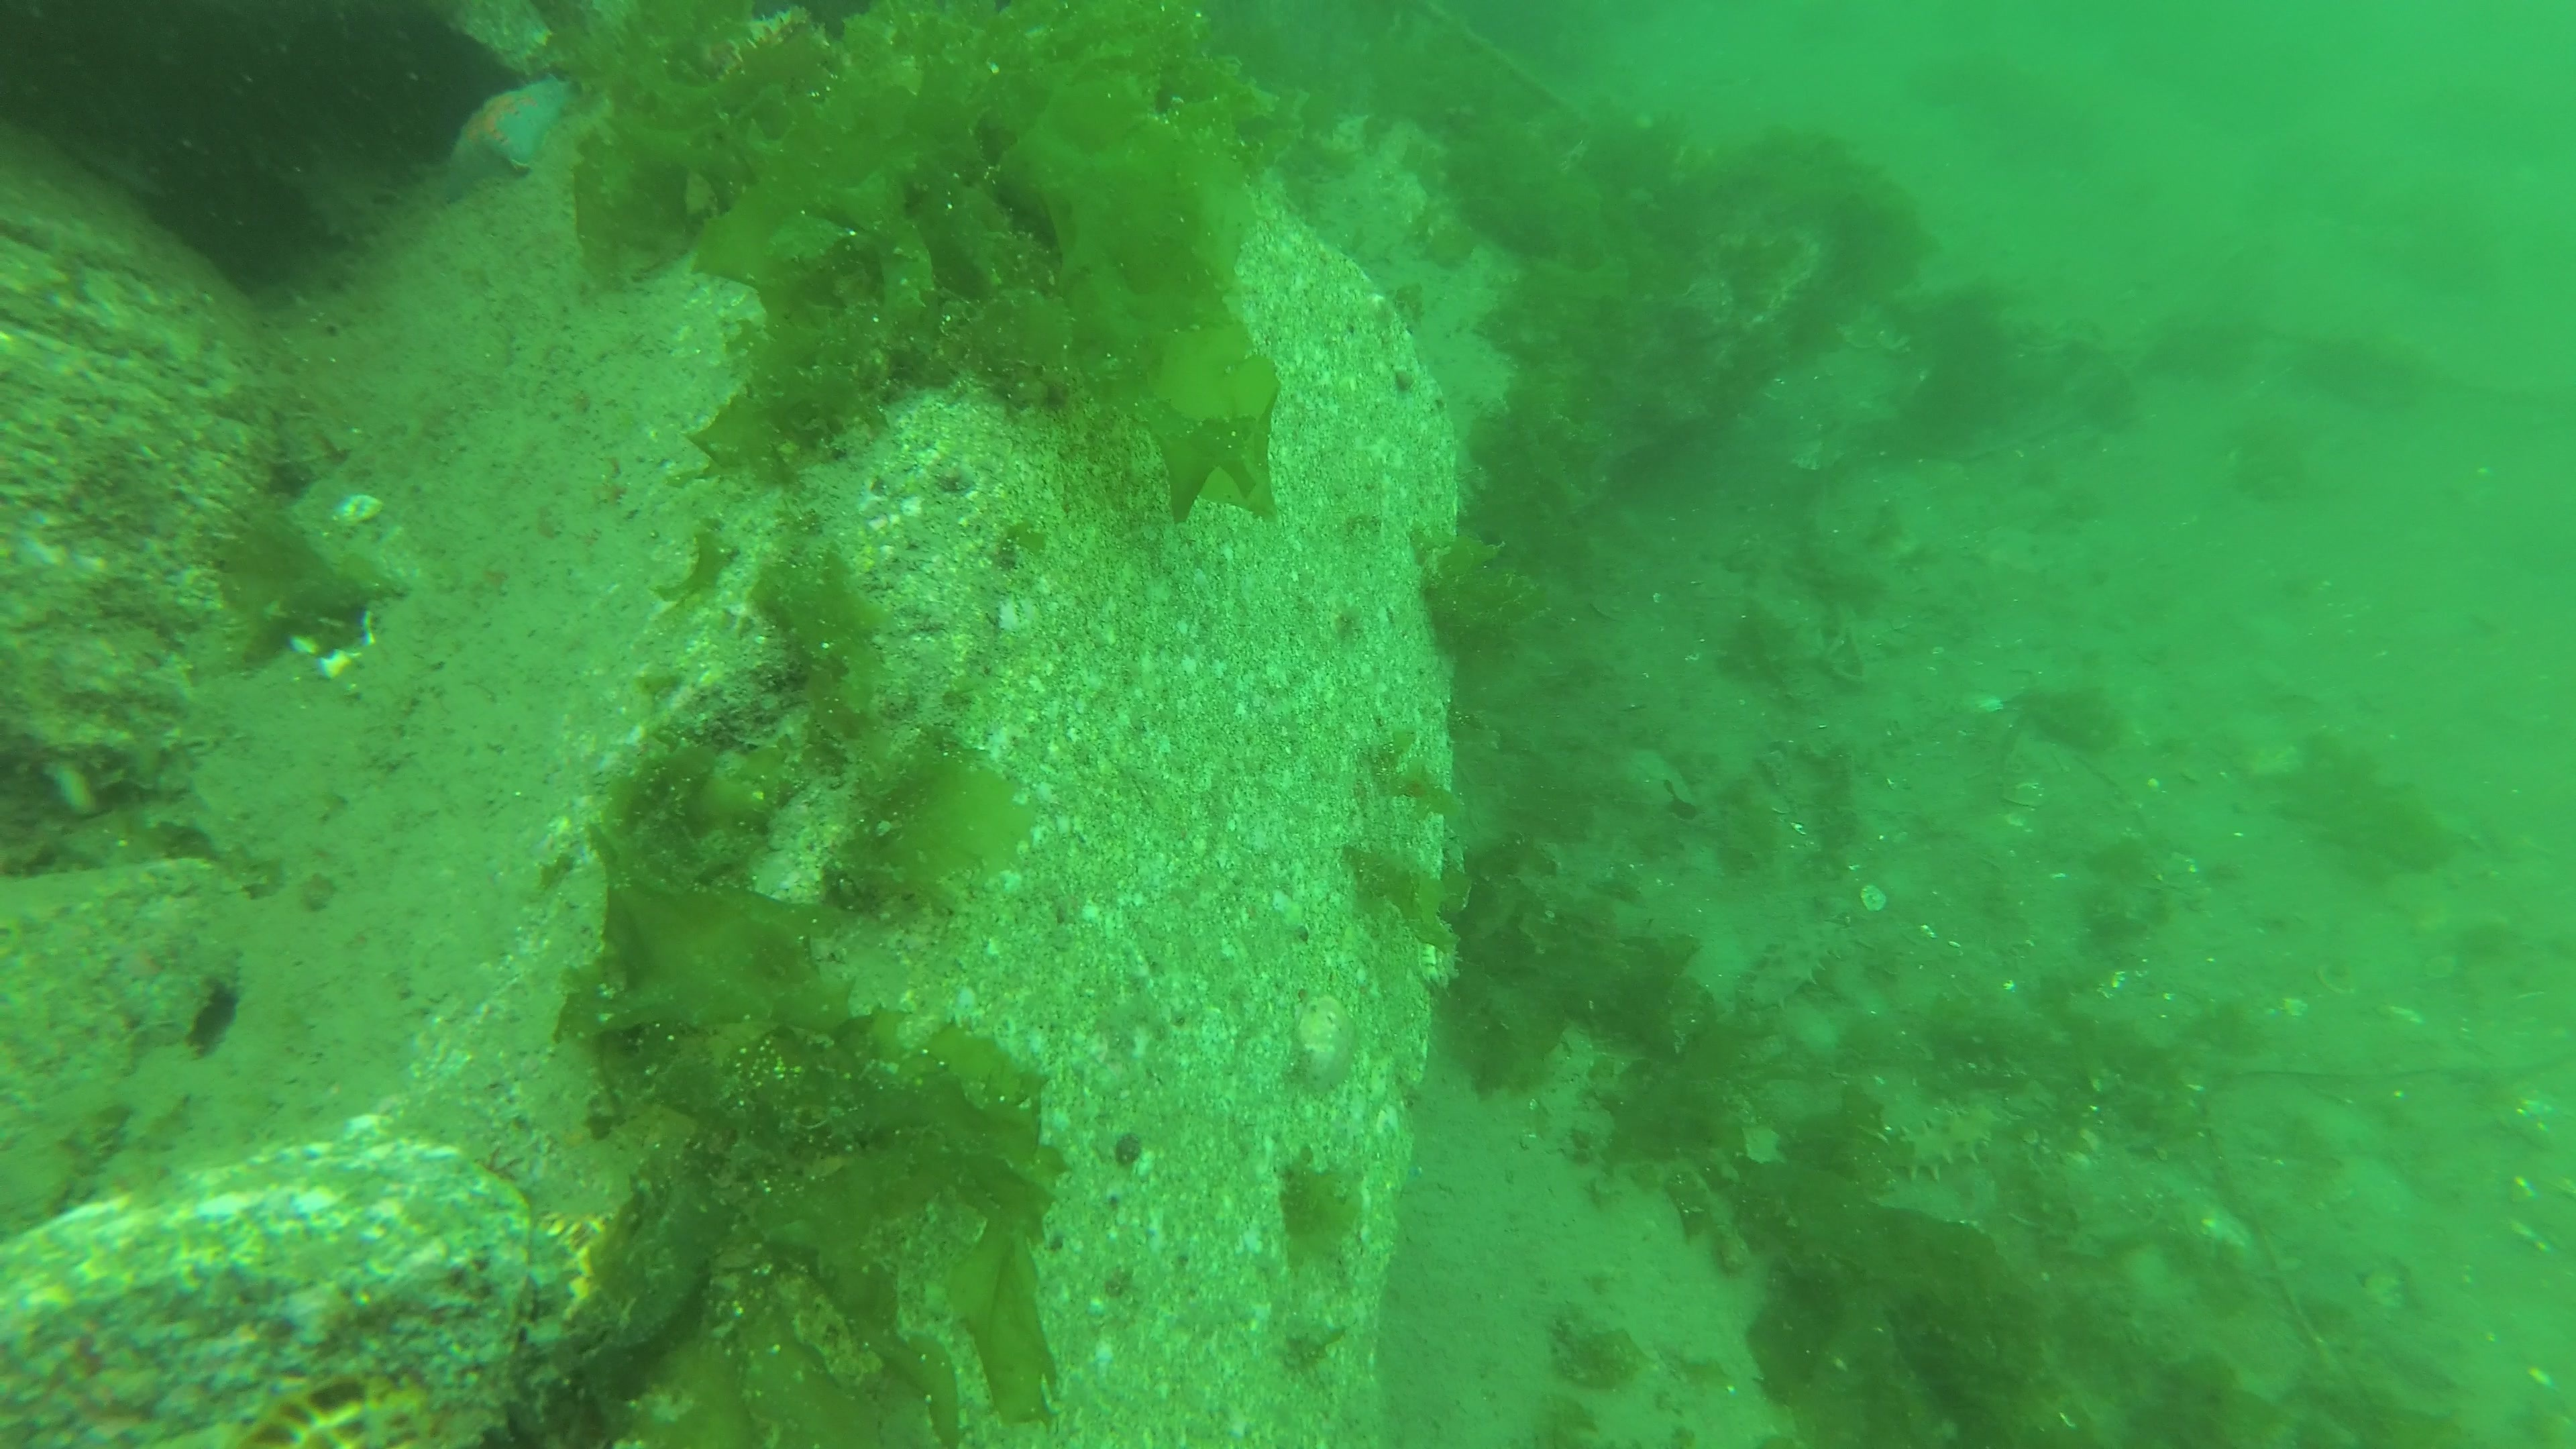holothurian: (1863, 1097, 2010, 1185), (1730, 913, 1852, 1014)
starfish: (425, 67, 580, 218)
